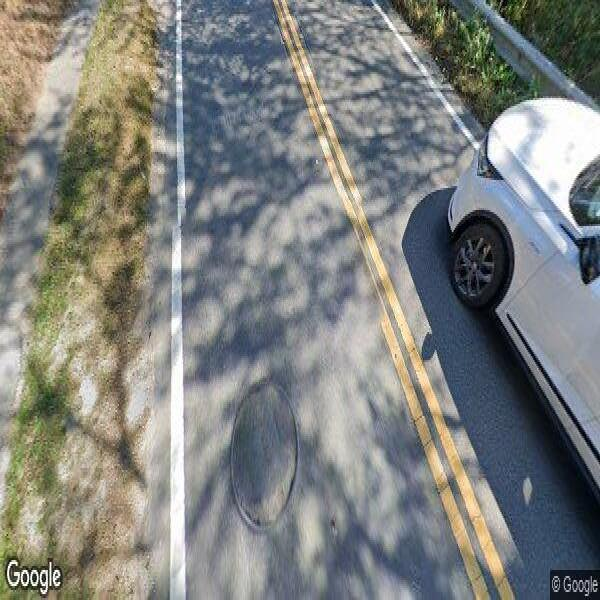manhole: (227, 377, 302, 537)
